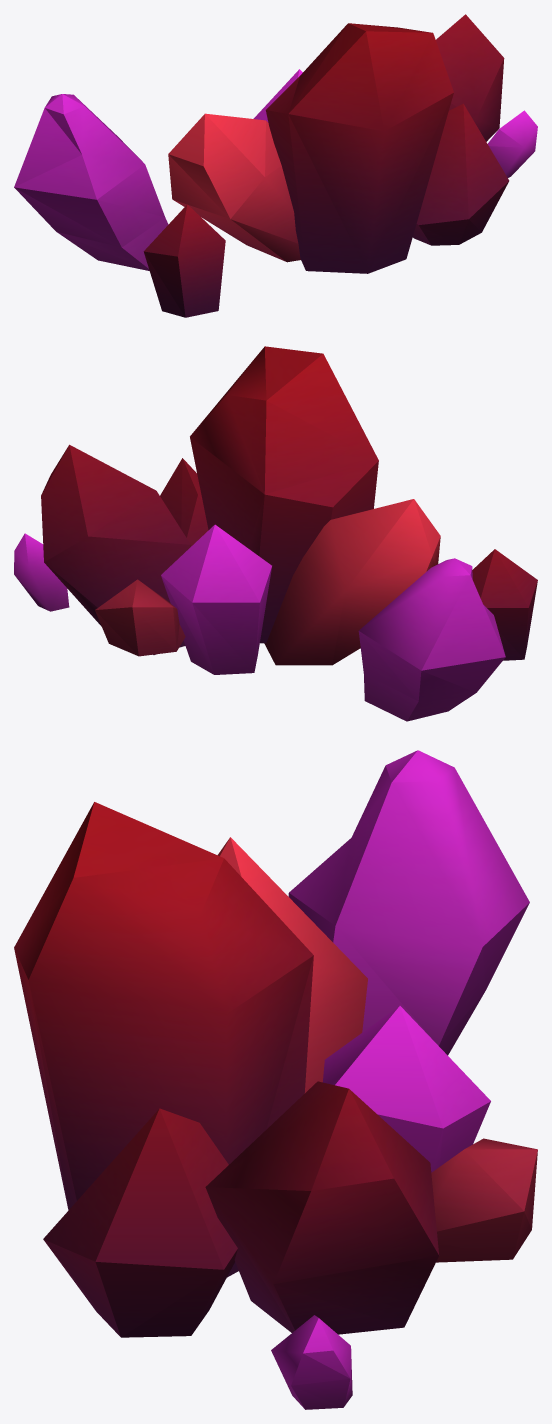
File: ZLP_Crystalk_B_11.FBX
3 renders of one model, top to bottom at view 1: azimuth 30°, elevation 25°; view 2: azimuth 150°, elevation 25°; view 3: azimuth 270°, elevation 25°, orthographic. The views are drawn at different scales.
Parts seen in each view (by area): view 1: ZLP_Crystalk_B_11; view 2: ZLP_Crystalk_B_11; view 3: ZLP_Crystalk_B_11.
Boxes of the visible parts, <box> form: ZLP_Crystalk_B_11: <box>14,14,537,317</box>; ZLP_Crystalk_B_11: <box>14,346,537,721</box>; ZLP_Crystalk_B_11: <box>14,750,537,1409</box>.
Bounding box in the file's own units: 209 × 97.16 × 107.
